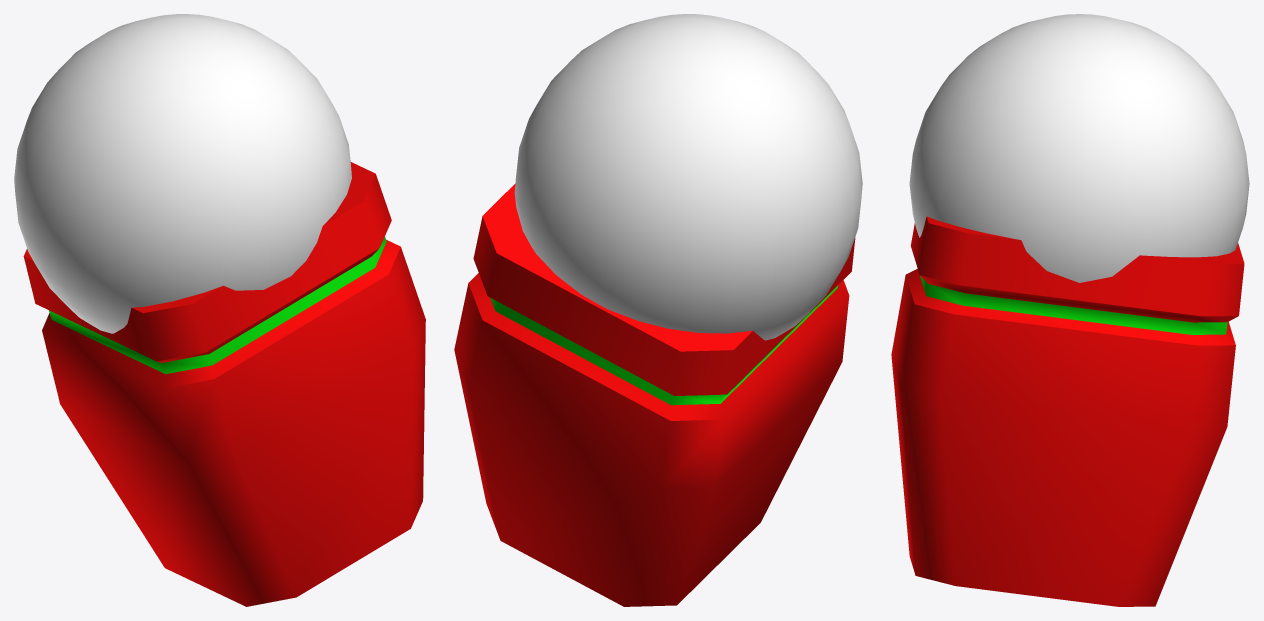
Rendered from Ronin_UpperLeg.fbx.
3 renders of one model, left to right at view 1: azimuth 30°, elevation 25°; view 2: azimuth 150°, elevation 25°; view 3: azimuth 270°, elevation 25°, orthographic. The views are drawn at different scales.
Visible parts, largest first — view 1: Samurai_UpperLeg; view 2: Samurai_UpperLeg; view 3: Samurai_UpperLeg.
Boxes of the visible parts, x1,y1,x2,y2 form: Samurai_UpperLeg: (14,14,425,606); Samurai_UpperLeg: (454,14,862,606); Samurai_UpperLeg: (891,14,1249,606).
Size of the model in its own units: 21.26 by 34.33 by 20.29.
